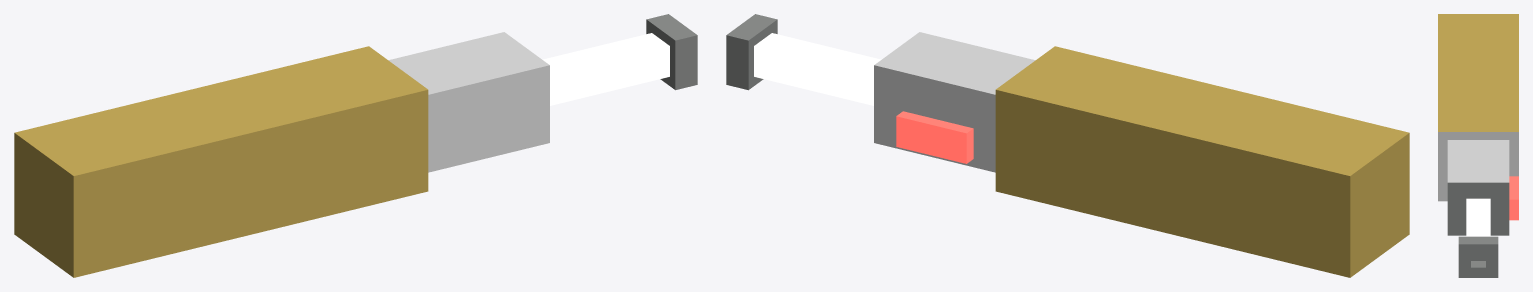
File: Pistola.fbx
3 renders of one model, left to right at view 1: azimuth 30°, elevation 25°; view 2: azimuth 150°, elevation 25°; view 3: azimuth 270°, elevation 25°, orthographic. The views are drawn at different scales.
Visible parts, largest first — view 1: Pistol; view 2: Pistol; view 3: Pistol.
Boxes of the visible parts, x1=… form: Pistol: x1=14, y1=14, x2=697, y2=277; Pistol: x1=726, y1=14, x2=1409, y2=277; Pistol: x1=1438, y1=14, x2=1518, y2=277.
Bounding box in the file's own units: 360 × 54.84 × 58.07.
